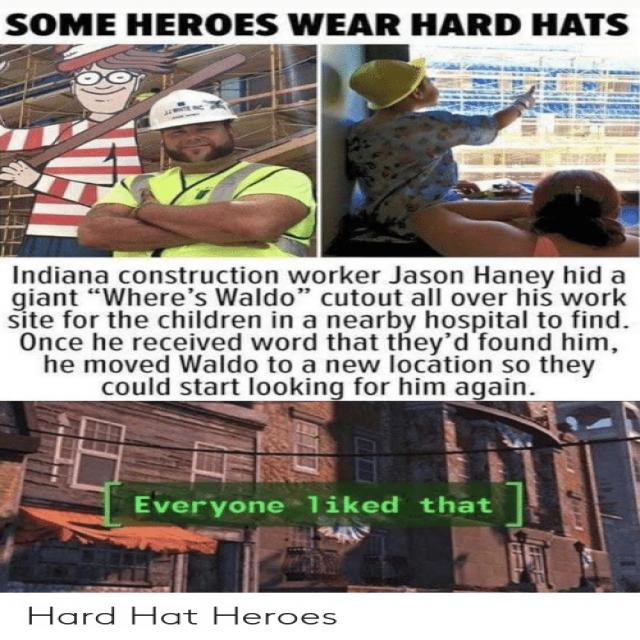Reflective-Jacket: (101, 161, 316, 258)
Safety-Helmet: (142, 87, 241, 131), (346, 56, 428, 109)
